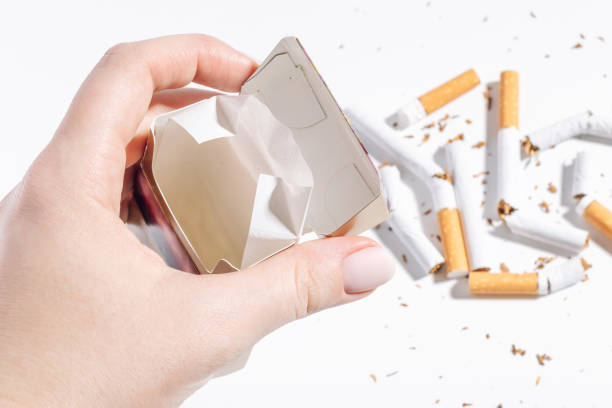cigarette: (126, 34, 391, 275), (343, 103, 468, 278), (378, 162, 446, 274), (446, 134, 492, 274), (396, 67, 483, 127), (468, 254, 589, 295), (495, 72, 524, 221), (503, 205, 591, 253), (522, 108, 612, 154), (571, 195, 612, 239), (569, 148, 593, 200)
